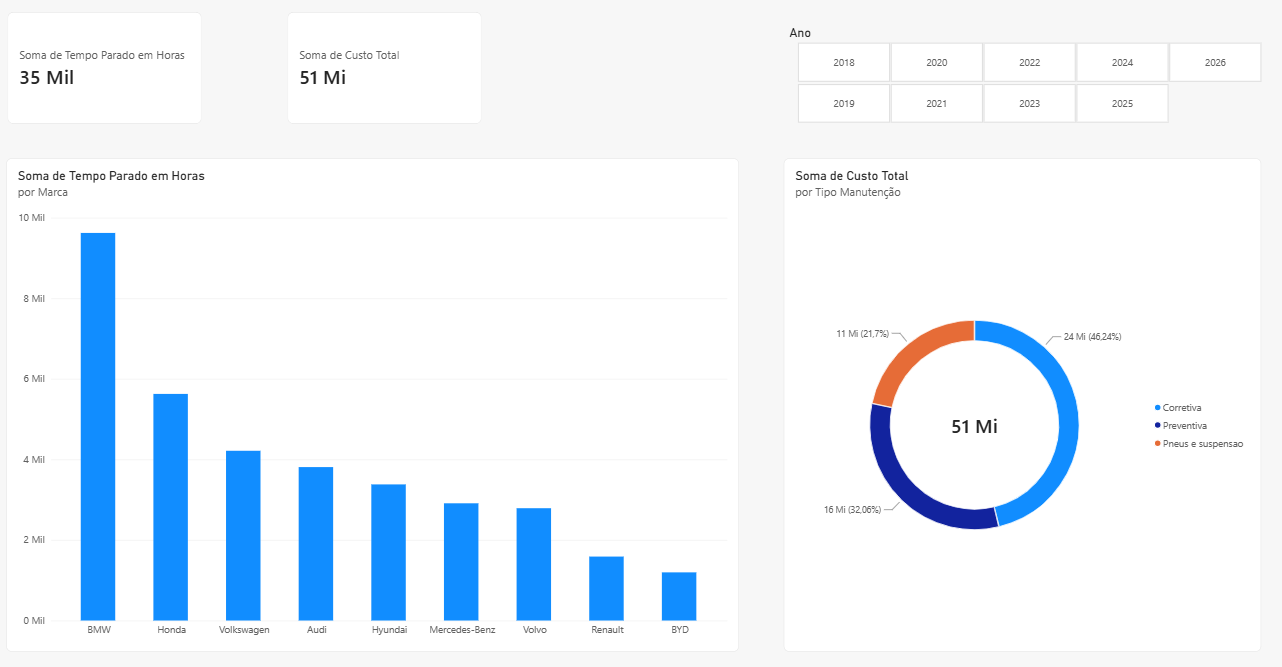

Layout of this report page (visuals, bound fields, positions):
{"tool":"powerbi","page":{"name":"Página 1","canvas":[1920,1080],"ordinal":0},"visuals":[{"type":"cardVisual","fields":{"Data":["Sum(manutencoes.tempo_parado_horas)"]},"box":[10.3,28.8,282,162.6],"z":0},{"type":"clusteredColumnChart","fields":{"Category":["veiculos.marca"],"Y":["Sum(manutencoes.tempo_parado_horas)"]},"box":[9.9,239.8,1061,714.5],"z":1000},{"type":"donutChart","fields":{"Category":["manutencoes.tipo_manutencao"],"Y":["Sum(manutencoes.custo_total)"]},"box":[1134.1,240.8,691.6,714.2],"z":2000},{"type":"slicer","fields":{"Values":["veiculos.ano"]},"box":[1134.1,49.4,710.1,142],"z":3000},{"type":"cardVisual","fields":{"Data":["Sum(manutencoes.custo_total)"]},"box":[415.8,28.8,282,162.6],"z":4000}]}

Visuals, with their boxes on the page's 1920x1080 design canvas (x1, y1, x2, y2). These are canvas units, not pixel positions in the 1282x667 screenshot, which may show the page scaled, cropped or inside an application window:
cardVisual - Sum(manutencoes.tempo_parado_horas): [10,29,292,191]
clusteredColumnChart - veiculos.marca x Sum(manutencoes.tempo_parado_horas): [10,240,1071,954]
donutChart - manutencoes.tipo_manutencao x Sum(manutencoes.custo_total): [1134,241,1826,955]
slicer - veiculos.ano: [1134,49,1844,191]
cardVisual - Sum(manutencoes.custo_total): [416,29,698,191]
